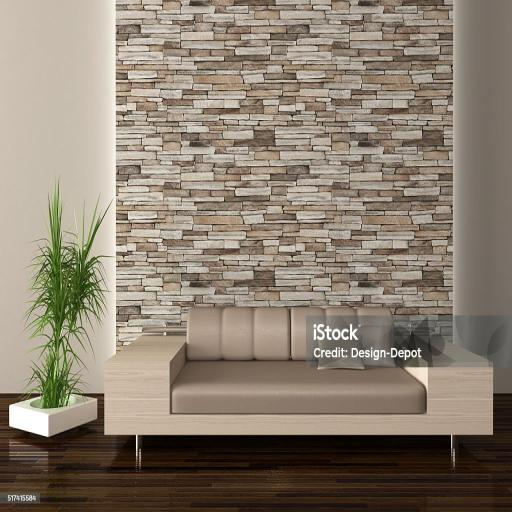back_cushion: (186, 307, 395, 369)
base: (164, 415, 424, 434)
left_arm: (392, 318, 493, 434)
legs: (450, 435, 458, 463), (136, 435, 142, 468)
right_arm: (105, 335, 185, 435)
seat_cushion: (171, 361, 424, 413)
stallion-sofa2: (105, 307, 492, 447)
